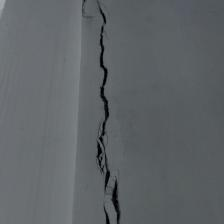Medium: (88, 8, 130, 212)
